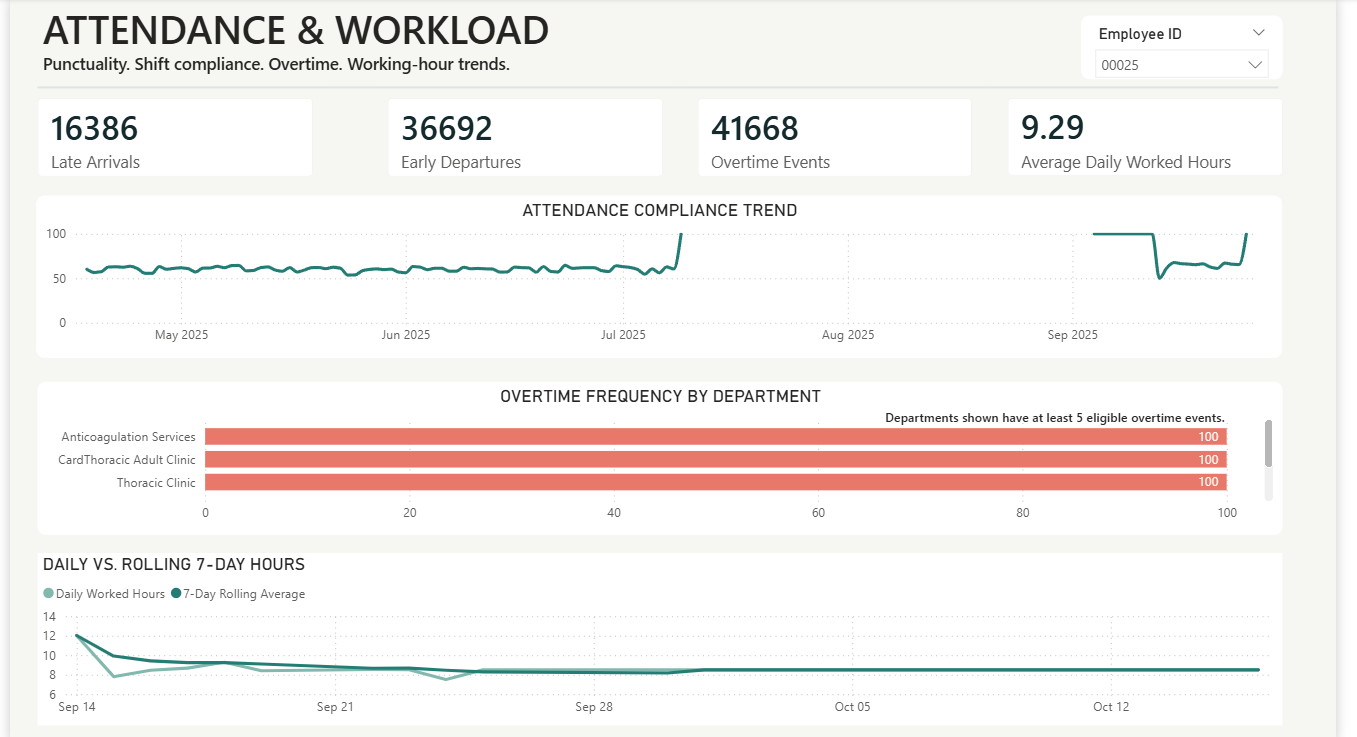

The page's visual inventory and layout, read from the dashboard file:
{"tool":"powerbi","page":{"name":"03 | Attendance & Workload","canvas":[1280,720],"ordinal":2},"visuals":[{"type":"textbox","box":[26.6,0,942.6,135],"z":0},{"type":"textbox","box":[26.5,47.1,943.4,67.6],"z":1000},{"type":"cardVisual","fields":{"Data":["_Measures.Late Arrivals"]},"box":[9.7,79.6,300.4,111],"z":2000},{"type":"cardVisual","fields":{"Data":["_Measures.Early Departures"]},"box":[347.5,79.6,300.4,111],"z":3000},{"type":"cardVisual","fields":{"Data":["_Measures.Overtime Events"]},"box":[646.7,79.6,299.2,111],"z":4000},{"type":"cardVisual","fields":{"Data":["_Measures.Average Daily Worked Hours"]},"box":[945.8,79.6,300.4,109.8],"z":5000},{"type":"lineChart","title":"ATTENDANCE COMPLIANCE TREND","fields":{"Category":["10_attendance_compliance.work_date"],"Y":["_Measures.Compliance Before Gap","_Measures.Compliance After Gap"]},"box":[25.1,190,1202.1,157],"z":6000},{"type":"clusteredBarChart","title":"OVERTIME FREQUENCY BY DEPARTMENT","fields":{"Category":["11_department_overtime.department_name"],"Y":["Avg(11_department_overtime.overtime_frequency_pct)"]},"box":[26.5,370.4,1201.6,148.4],"z":7000},{"type":"lineChart","title":"DAILY VS. ROLLING 7-DAY HOURS","fields":{"Y":["Avg(06_rolling_working_hours.worked_hours)","Avg(06_rolling_working_hours.rolling_7_day_avg_worked_hours)"],"Category":["06_rolling_working_hours.work_date"]},"box":[26.5,535.7,1201.6,166.5],"z":7001},{"type":"shape","box":[26.5,57.9,1198,56.7],"z":7002},{"type":"slicer","fields":{"Values":["06_rolling_working_hours.client_employee_id"]},"box":[1033.9,16.9,194.2,61.5],"z":7003},{"type":"textbox","box":[839.7,389.7,388.5,35],"z":7004}]}

Visuals, with their boxes on the page's 1280x720 design canvas (x1, y1, x2, y2). These are canvas units, not pixel positions in the 1357x737 screenshot, which may show the page scaled, cropped or inside an application window:
textbox: <box>27,0,969,135</box>
textbox: <box>26,47,970,115</box>
cardVisual - _Measures.Late Arrivals: <box>10,80,310,191</box>
cardVisual - _Measures.Early Departures: <box>348,80,648,191</box>
cardVisual - _Measures.Overtime Events: <box>647,80,946,191</box>
cardVisual - _Measures.Average Daily Worked Hours: <box>946,80,1246,189</box>
"ATTENDANCE COMPLIANCE TREND" lineChart: <box>25,190,1227,347</box>
"OVERTIME FREQUENCY BY DEPARTMENT" clusteredBarChart: <box>26,370,1228,519</box>
"DAILY VS. ROLLING 7-DAY HOURS" lineChart: <box>26,536,1228,702</box>
shape: <box>26,58,1224,115</box>
slicer - 06_rolling_working_hours.client_employee_id: <box>1034,17,1228,78</box>
textbox: <box>840,390,1228,425</box>
